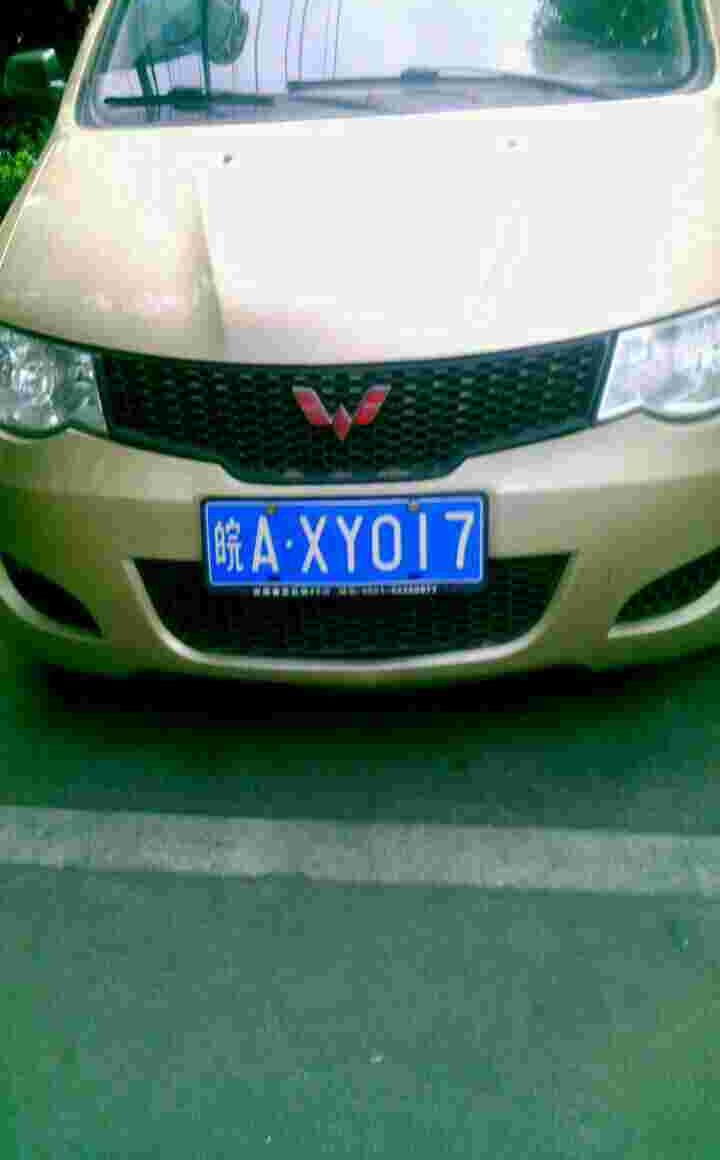license_plate: (211, 499, 479, 595)
